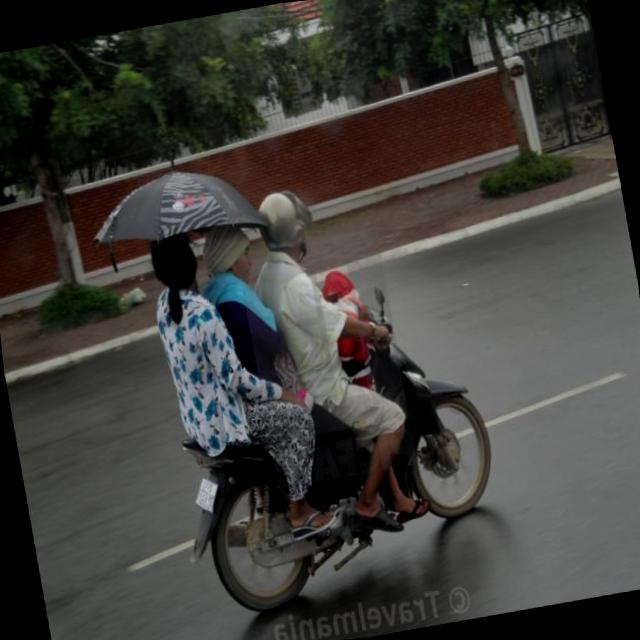motorcycle: (164, 298, 511, 621)
person: (222, 180, 356, 454), (126, 226, 249, 500), (182, 219, 296, 461), (304, 268, 394, 458)
rider_region: (148, 165, 514, 622)
